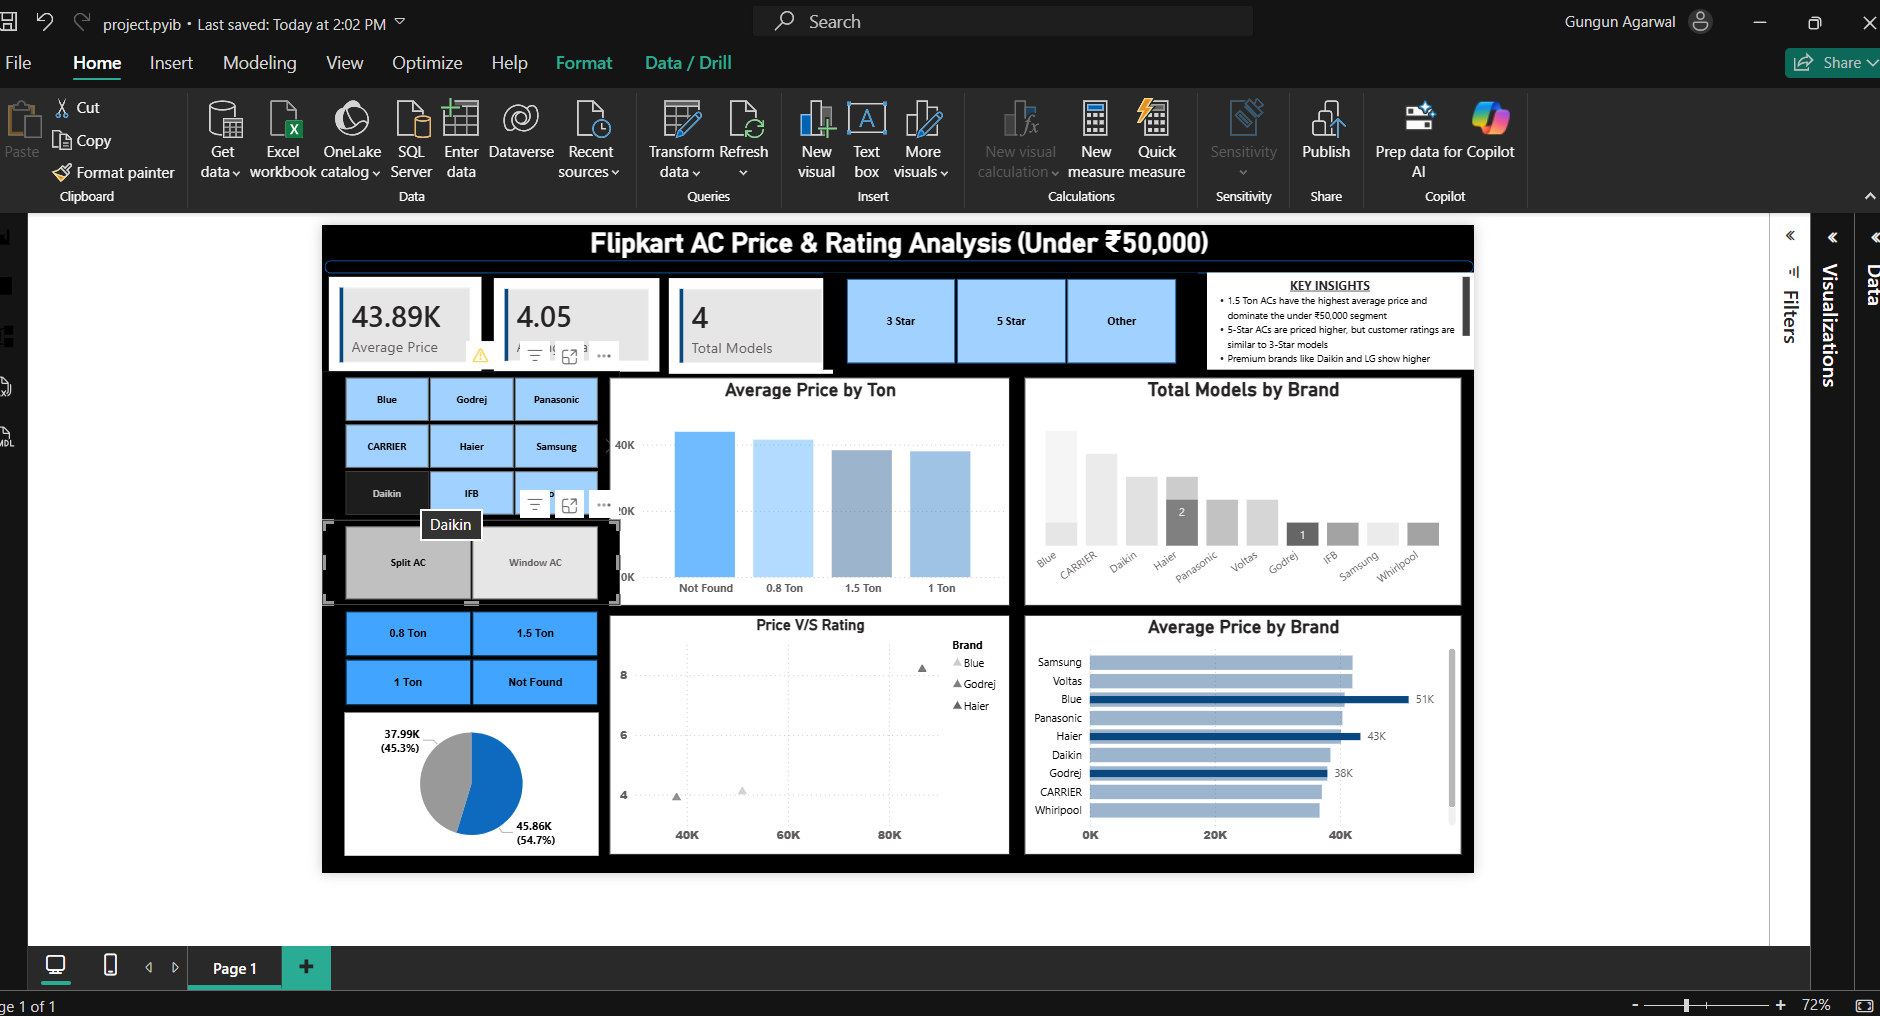

The page's visual inventory and layout, read from the dashboard file:
{"tool":"powerbi","page":{"name":"Page 1","canvas":[1280,720],"ordinal":0},"visuals":[{"type":"cardVisual","fields":{"Data":["Table1.Average Price"]},"box":[3.2,53.2,179,117.7],"z":0},{"type":"shape","title":"Flipkart AC Price & Rating Analysis (Under ₹50,000)","box":[3.3,0,1277,54.1],"z":1000},{"type":"cardVisual","fields":{"Data":["Table1.Average Rating"]},"box":[186.6,53.7,194,114.9],"z":2000},{"type":"cardVisual","fields":{"Data":["Table1.Total Models"]},"box":[380.6,53.7,192.5,116.4],"z":3000},{"type":"clusteredBarChart","fields":{"Category":["Table1.Brand"],"Y":["Table1.Average Price"]},"box":[780.6,433.9,485.5,266.1],"z":4000},{"type":"slicer","fields":{"Values":["Table1.Ton"]},"box":[0,422.6,330.7,118],"z":5000},{"type":"slicer","fields":{"Values":["Table1.Star Rating"]},"box":[556.5,53.2,416.1,108.1],"z":6000},{"type":"slicer","fields":{"Values":["Table1.AC Type"]},"box":[0,328,330.7,94.7],"z":7000},{"type":"slicer","fields":{"Values":["Table1.Brand"]},"box":[0,161.9,330.7,166],"z":8000},{"type":"clusteredColumnChart","fields":{"Category":["Table1.Brand"],"Y":["Table1.Total Models"]},"box":[780.6,169.4,485.5,253.2],"z":9000},{"type":"pieChart","fields":{"Category":["Table1.Star Rating"],"Y":["Table1.Average Price"]},"box":[25.5,541.2,282.4,158.8],"z":10000},{"type":"clusteredColumnChart","fields":{"Category":["Table1.Ton"],"Y":["Table1.Average Price"]},"box":[319.4,169.4,445.2,253.2],"z":11000},{"type":"scatterChart","title":"Price V/S Rating","fields":{"X":["Sum(Table1.Prices)"],"Y":["Sum(Table1.Reviews)"],"Series":["Table1.Brand"]},"box":[319.4,433.9,445.2,266.1],"z":12000},{"type":"textbox","box":[983.9,53.2,296.8,108.1],"z":13002}]}

Visuals, with their boxes on the page's 1280x720 design canvas (x1, y1, x2, y2). These are canvas units, not pixel positions in the 1880x1016 screenshot, which may show the page scaled, cropped or inside an application window:
cardVisual - Table1.Average Price: <box>3,53,182,171</box>
"Flipkart AC Price & Rating Analysis (Under ₹50,000)" shape: <box>3,0,1280,54</box>
cardVisual - Table1.Average Rating: <box>187,54,381,169</box>
cardVisual - Table1.Total Models: <box>381,54,573,170</box>
clusteredBarChart - Table1.Brand x Table1.Average Price: <box>781,434,1266,700</box>
slicer - Table1.Ton: <box>0,423,331,541</box>
slicer - Table1.Star Rating: <box>556,53,973,161</box>
slicer - Table1.AC Type: <box>0,328,331,423</box>
slicer - Table1.Brand: <box>0,162,331,328</box>
clusteredColumnChart - Table1.Brand x Table1.Total Models: <box>781,169,1266,423</box>
pieChart - Table1.Star Rating x Table1.Average Price: <box>26,541,308,700</box>
clusteredColumnChart - Table1.Ton x Table1.Average Price: <box>319,169,765,423</box>
"Price V/S Rating" scatterChart: <box>319,434,765,700</box>
textbox: <box>984,53,1281,161</box>
